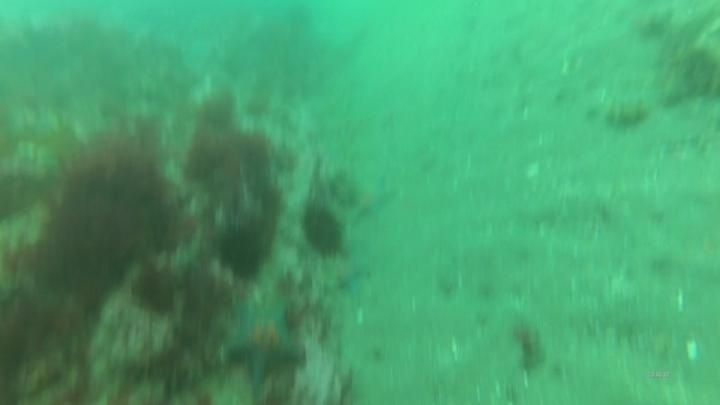echinus: (214, 223, 268, 282), (299, 202, 348, 260)
holothurian: (592, 90, 653, 132)
starfish: (220, 299, 306, 388), (344, 172, 397, 226), (321, 254, 371, 297)
